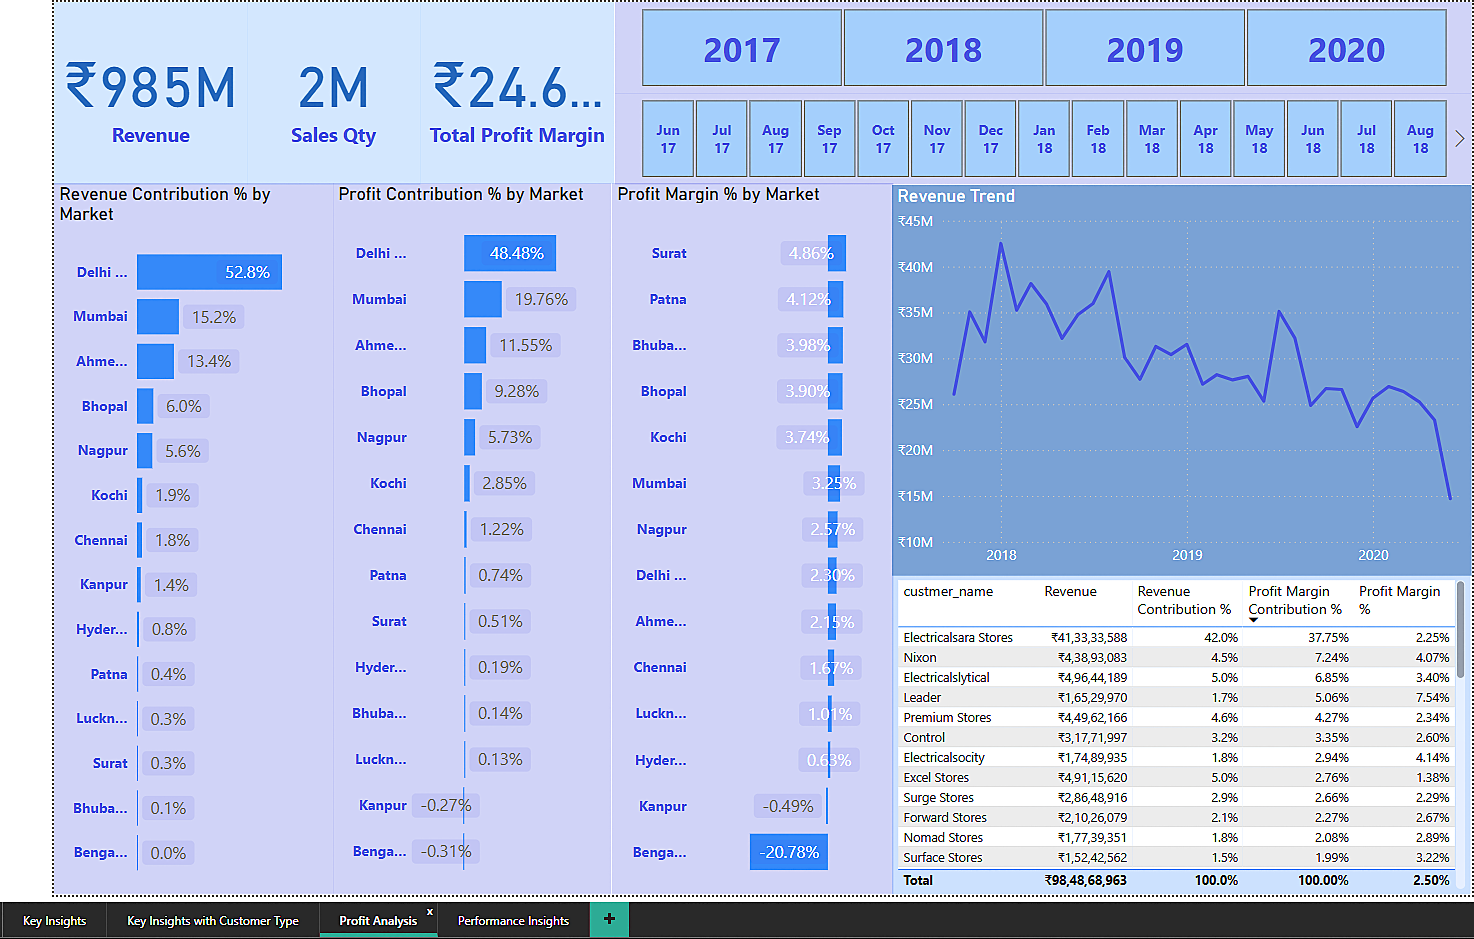

What the dashboard file says about the page in this screenshot:
{"tool":"powerbi","page":{"name":"Profit Analysis","canvas":[1350,850],"ordinal":2},"visuals":[{"type":"card","fields":{"Values":["BaseMeasures.Revenue"]},"box":[0,0,183.9,173.8],"z":0},{"type":"card","fields":{"Values":["BaseMeasures.Sales Qty"]},"box":[183.7,0,164.5,173.6],"z":1000},{"type":"barChart","title":"Profit  Margin % by Market","fields":{"Y":["BaseMeasures.Profit Margin %"],"Category":["sales markets.markets_name"]},"box":[531,172.6,267.5,677.4],"z":2000},{"type":"barChart","title":"Profit Contribution % by Market","fields":{"Category":["sales markets.markets_name"],"Y":["BaseMeasures.Profit Margin Contribution %"]},"box":[265.8,172.8,264.8,677.1],"z":3000},{"type":"slicer","fields":{"Values":["sales date.year"]},"box":[534.3,0,815.7,87.1],"z":4000},{"type":"slicer","fields":{"Values":["sales date.cy_date"]},"box":[534,86.8,815.7,86.8],"z":5000},{"type":"tableEx","title":"Top 5 Customers","fields":{"Values":["sales customers.custmer_name","BaseMeasures.Revenue","BaseMeasures.Revenue Contribution %","BaseMeasures.Profit Margin Contribution %","BaseMeasures.Profit Margin %"]},"box":[798.5,546.1,551.2,303.9],"z":6000},{"type":"lineChart","title":"Revenue Trend","fields":{"Category":["sales date.cy_date"],"Y":["BaseMeasures.Revenue"]},"box":[798.3,173.8,551.7,371.9],"z":8000},{"type":"card","fields":{"Values":["BaseMeasures.total profit margin"]},"box":[348.6,0,184.9,172.8],"z":9000},{"type":"barChart","title":"Revenue Contribution % by Market","fields":{"Category":["sales markets.markets_name"],"Y":["BaseMeasures.Revenue Contribution %"]},"box":[0,172.8,265.8,677.1],"z":10000}]}

Visuals, with their boxes on the page's 1350x850 design canvas (x1, y1, x2, y2). These are canvas units, not pixel positions in the 1474x939 screenshot, which may show the page scaled, cropped or inside an application window:
card - BaseMeasures.Revenue: 0,0,184,174
card - BaseMeasures.Sales Qty: 184,0,348,174
"Profit  Margin % by Market" barChart: 531,173,798,850
"Profit Contribution % by Market" barChart: 266,173,531,850
slicer - sales date.year: 534,0,1350,87
slicer - sales date.cy_date: 534,87,1350,174
"Top 5 Customers" tableEx: 798,546,1350,850
"Revenue Trend" lineChart: 798,174,1350,546
card - BaseMeasures.total profit margin: 349,0,534,173
"Revenue Contribution % by Market" barChart: 0,173,266,850
